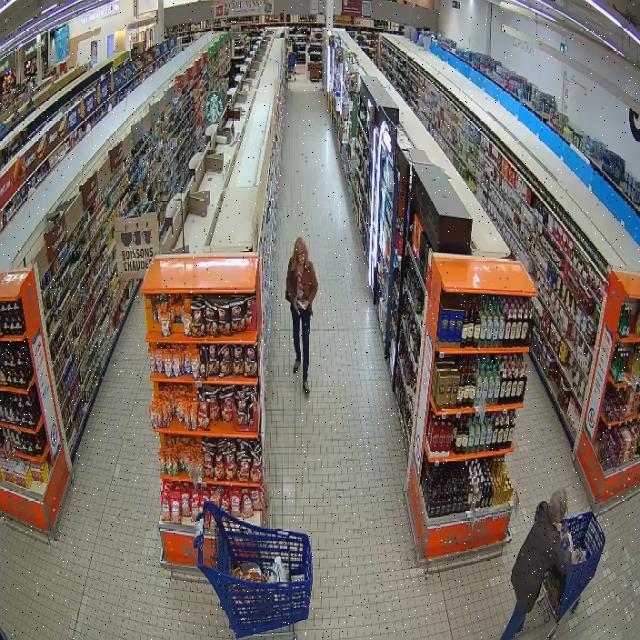article: (296, 297, 307, 310)
hands: (293, 294, 300, 313), (302, 301, 309, 309)
person: (501, 488, 572, 639), (285, 237, 317, 392)
